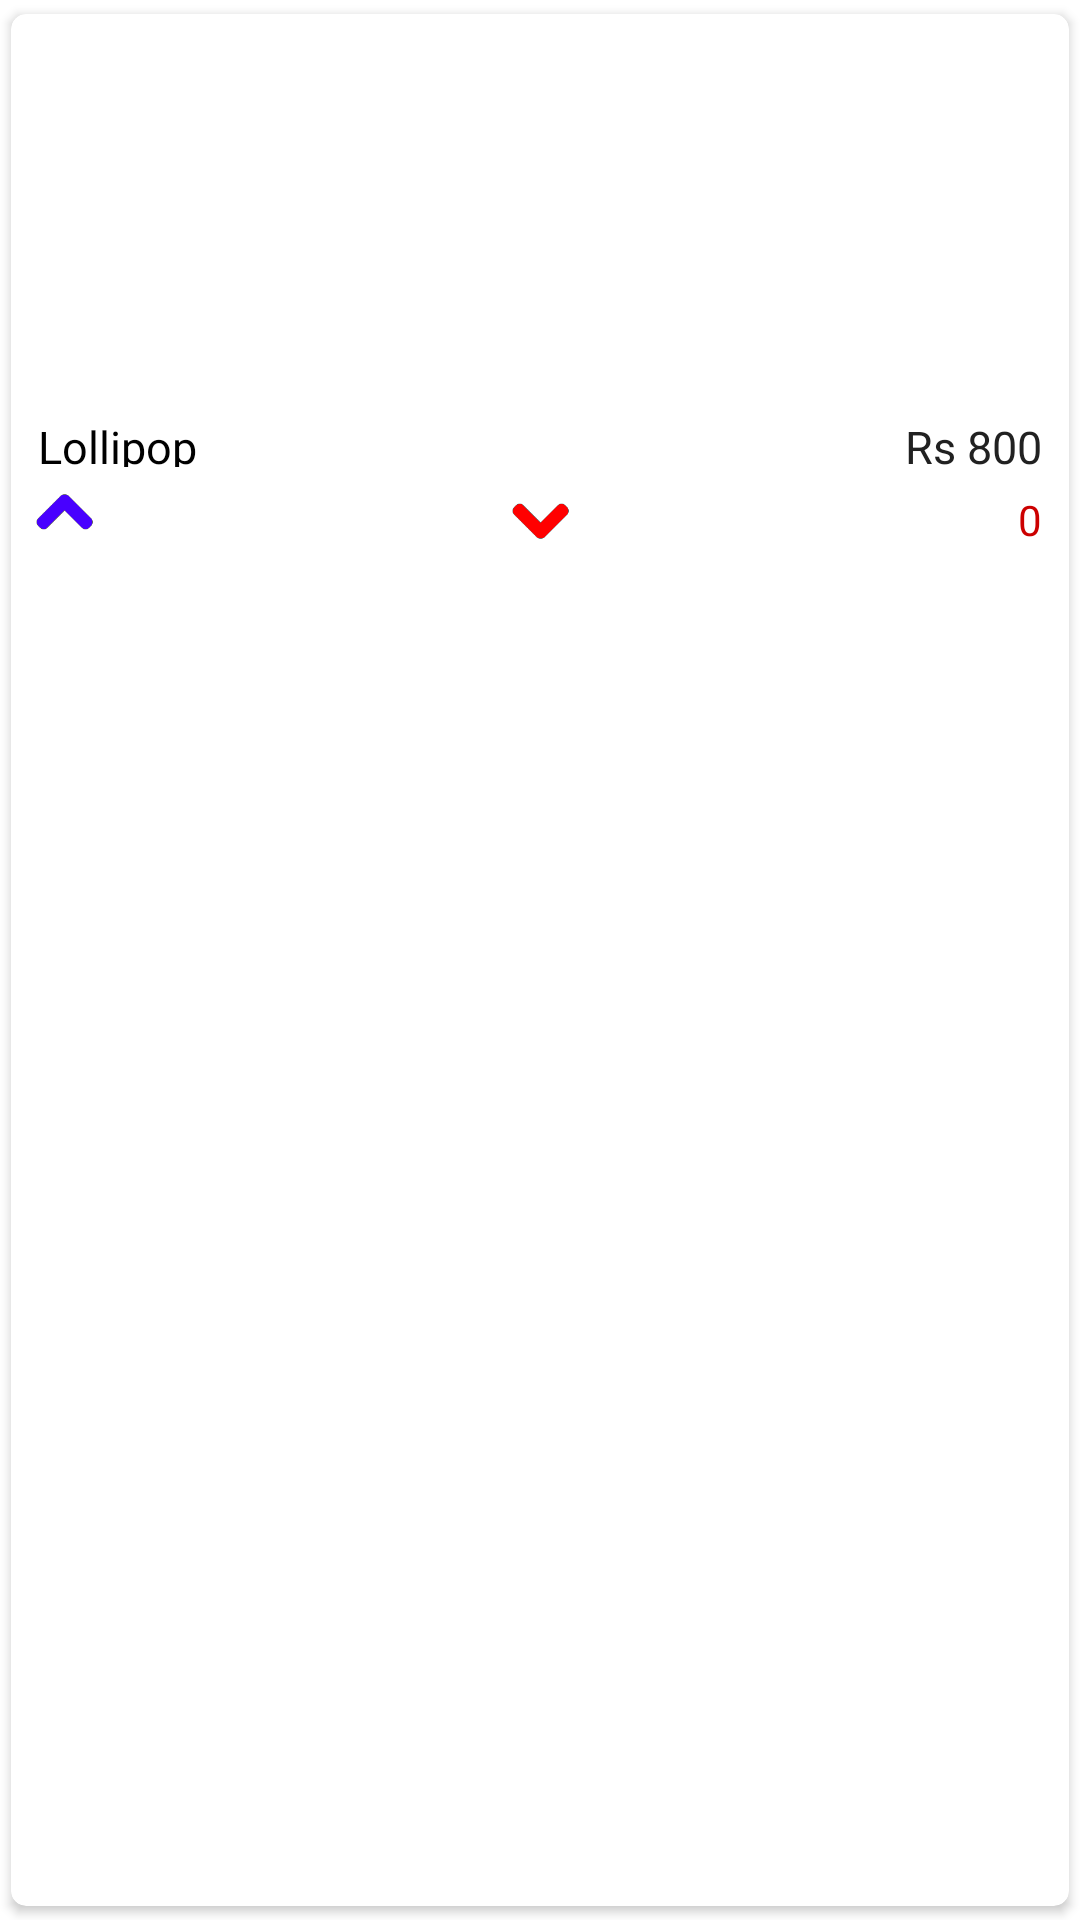

Point at icon controls on the screen. Image size 1080 x 1920, points as [x,y].
down: [540,521]
